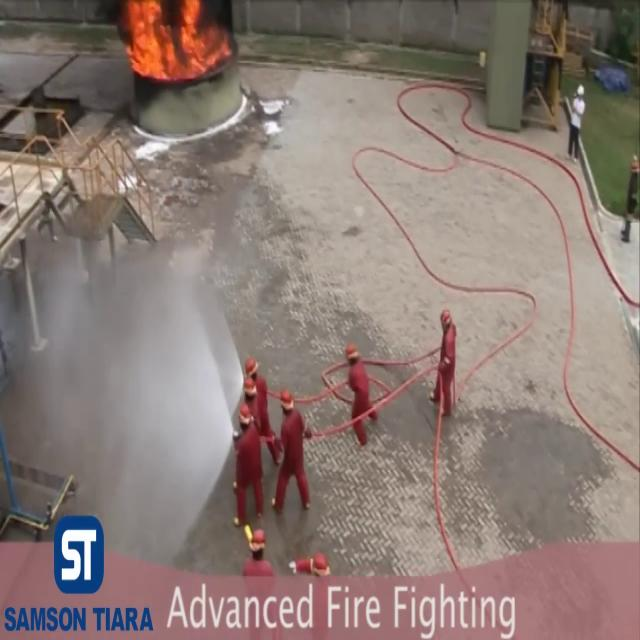Fire: (113, 0, 231, 95)
